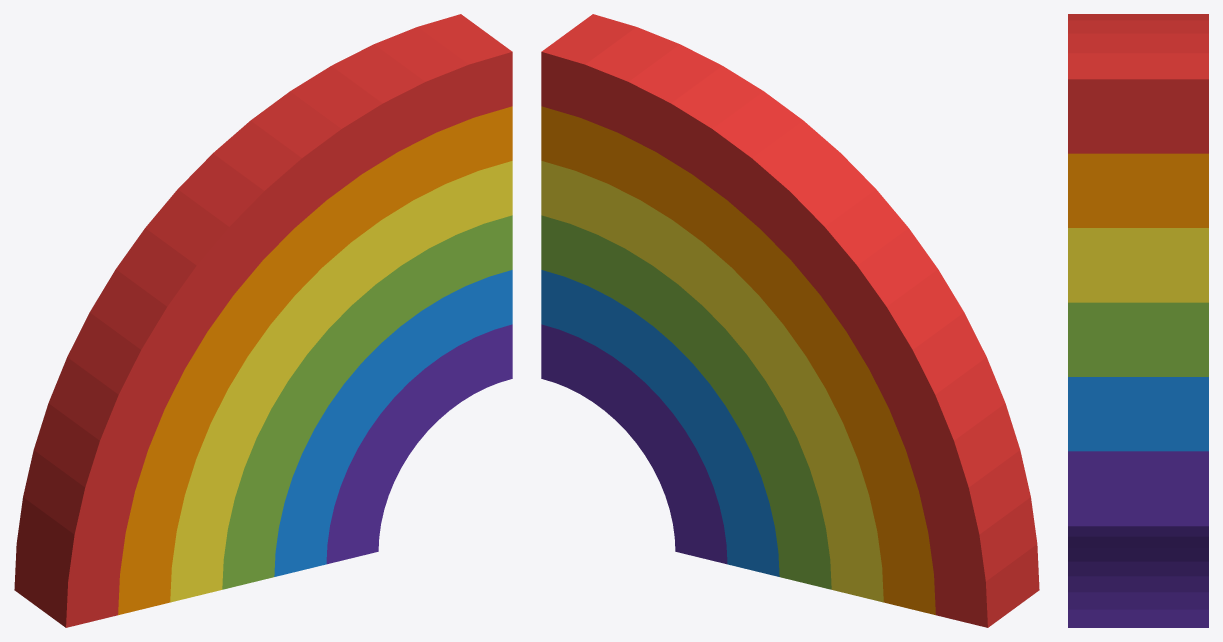
File: Rainbow.gltf
3 renders of one model, left to right at view 1: azimuth 30°, elevation 25°; view 2: azimuth 150°, elevation 25°; view 3: azimuth 270°, elevation 25°, orthographic. The views are drawn at different scales.
Parts seen in each view (by area): view 1: Circle.2125; view 2: Circle.2125; view 3: Circle.2125.
Part boxes in pixels (bbox=[...]): Circle.2125: bbox=[14, 14, 512, 627]; Circle.2125: bbox=[541, 14, 1039, 627]; Circle.2125: bbox=[1068, 14, 1208, 627].
Bounding box in the file's own units: 1.6 × 1.6 × 0.32.
Materials: 1 (1 with a texture image).
